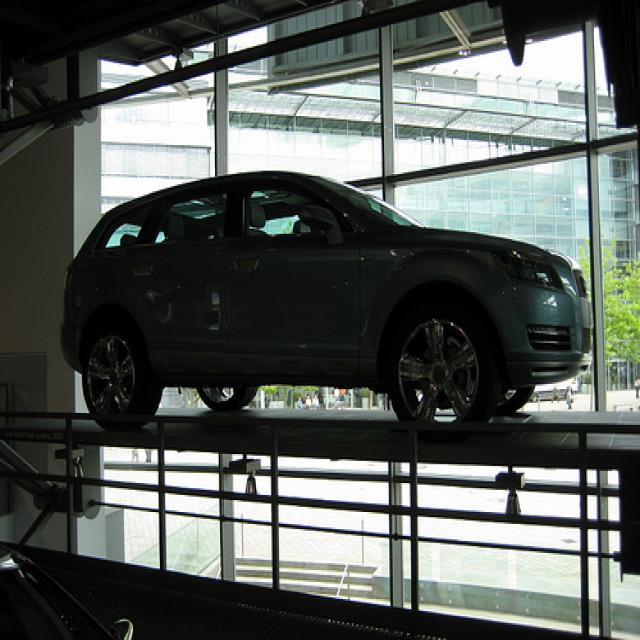Car: (62, 171, 594, 425)
